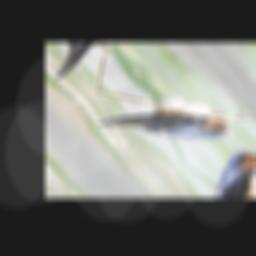Swallow: (96, 79, 237, 176)
